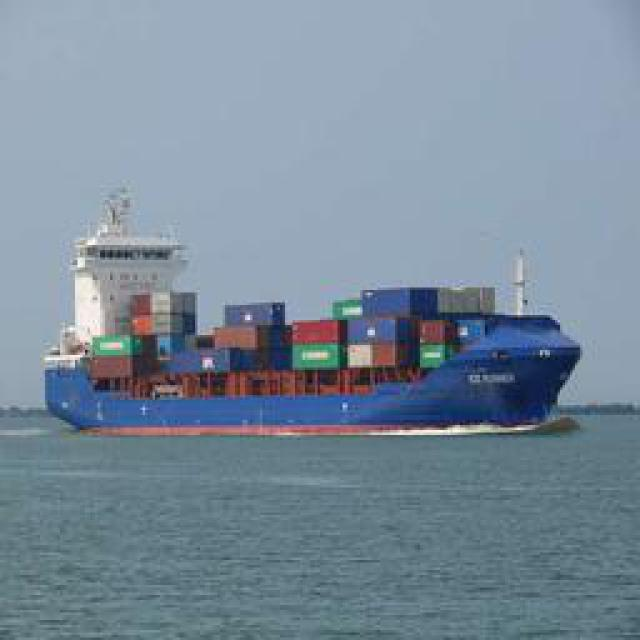Ship: (50, 309, 580, 432)
